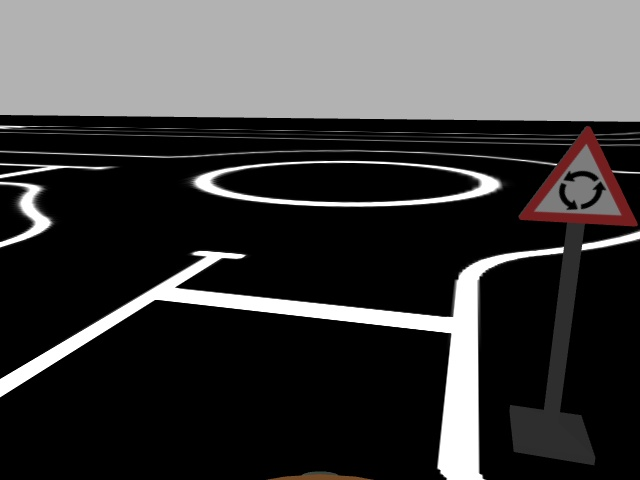roundabout: (518, 125, 637, 229)
